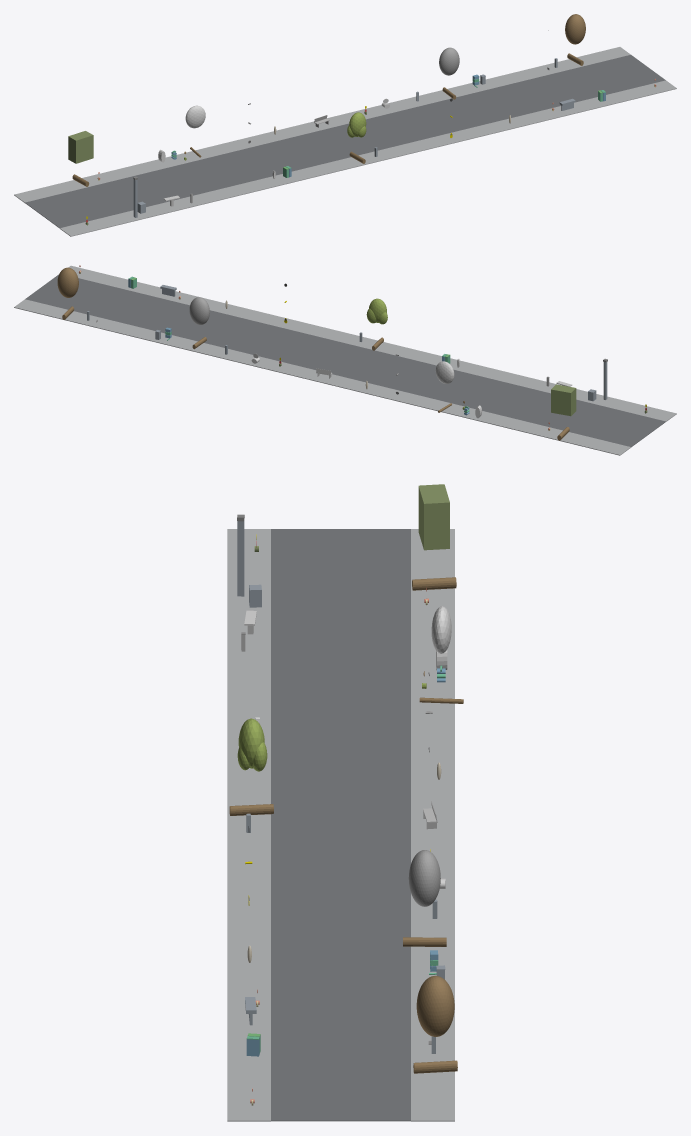
The picture shows the model from 3 angles, top to bottom: view 1: azimuth 30°, elevation 25°; view 2: azimuth 150°, elevation 25°; view 3: azimuth 270°, elevation 25°; orthographic projection. The views are drawn at different scales.
Visible parts, largest first — view 1: road_slab, sidewalk_left, sidewalk_right, inst_0012, inst_0016, inst_0015, inst_0014, inst_0013; view 2: road_slab, sidewalk_right, sidewalk_left, inst_0012, inst_0016, inst_0015, inst_0014, inst_0013; view 3: road_slab, sidewalk_left, sidewalk_right, inst_0012, inst_0016, inst_0015, inst_0014, inst_0013.
Part boxes in pixels (box(x1,y1,x2,y2)): road_slab: box(25, 55, 665, 228); sidewalk_left: box(60, 80, 676, 236); sidewalk_right: box(14, 47, 630, 202); inst_0012: box(68, 131, 93, 186); inst_0016: box(565, 14, 585, 65); inst_0015: box(439, 47, 459, 99); inst_0014: box(347, 112, 366, 163); inst_0013: box(185, 105, 205, 157); road_slab: box(25, 274, 665, 447); sidewalk_right: box(14, 299, 630, 455); sidewalk_left: box(68, 265, 676, 421); inst_0012: box(551, 384, 576, 440); inst_0016: box(57, 267, 78, 319); inst_0015: box(189, 297, 209, 349); inst_0014: box(366, 298, 387, 350); inst_0013: box(435, 361, 454, 412); road_slab: box(271, 529, 410, 1121); sidewalk_left: box(227, 529, 270, 1121); sidewalk_right: box(411, 529, 454, 1121); inst_0012: box(412, 484, 456, 590); inst_0016: box(413, 975, 457, 1073); inst_0015: box(403, 850, 446, 946); inst_0014: box(229, 718, 273, 815); inst_0013: box(419, 606, 463, 703).
Bounding box in the file's own units: 80 × 6.08 × 13.5.
